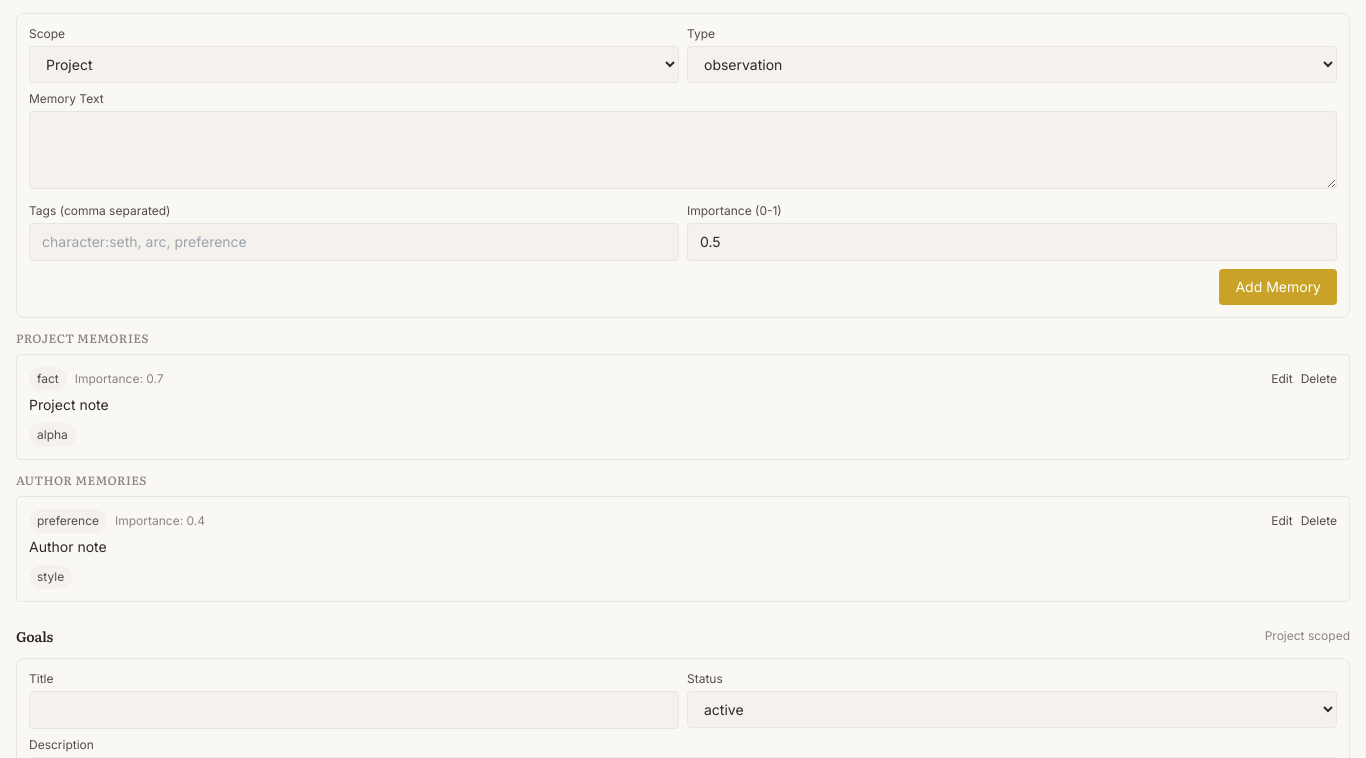
Test: MemoryManager › starts editing an existing memory
(page scrolled)
expect the text "Project note" is shown: met, box [29,396,109,413]
Click the button "Edit" in the row of "0.7".
click(1282, 379)  # box [1271,371,1293,387]
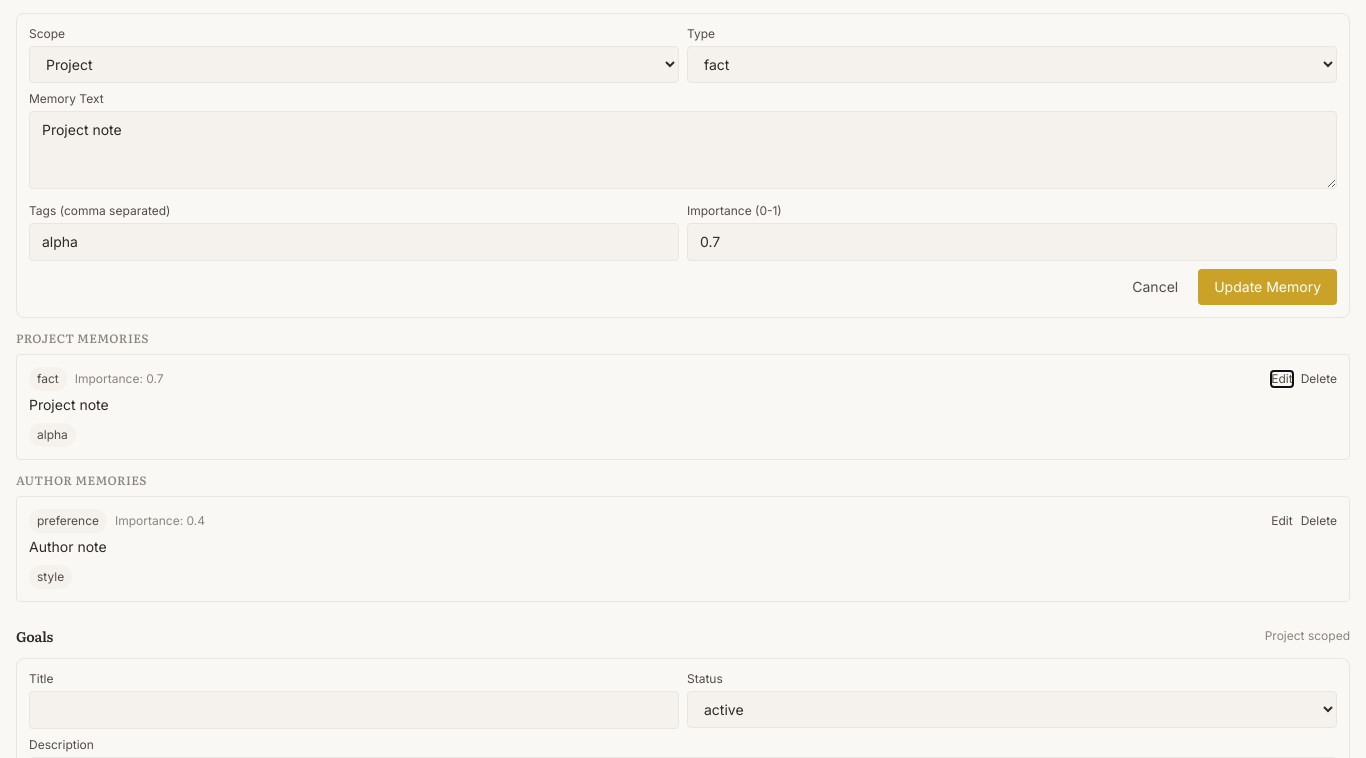
expect the text box labelled "Memory Text" holds "Project note": met, box [29,111,1337,189]
